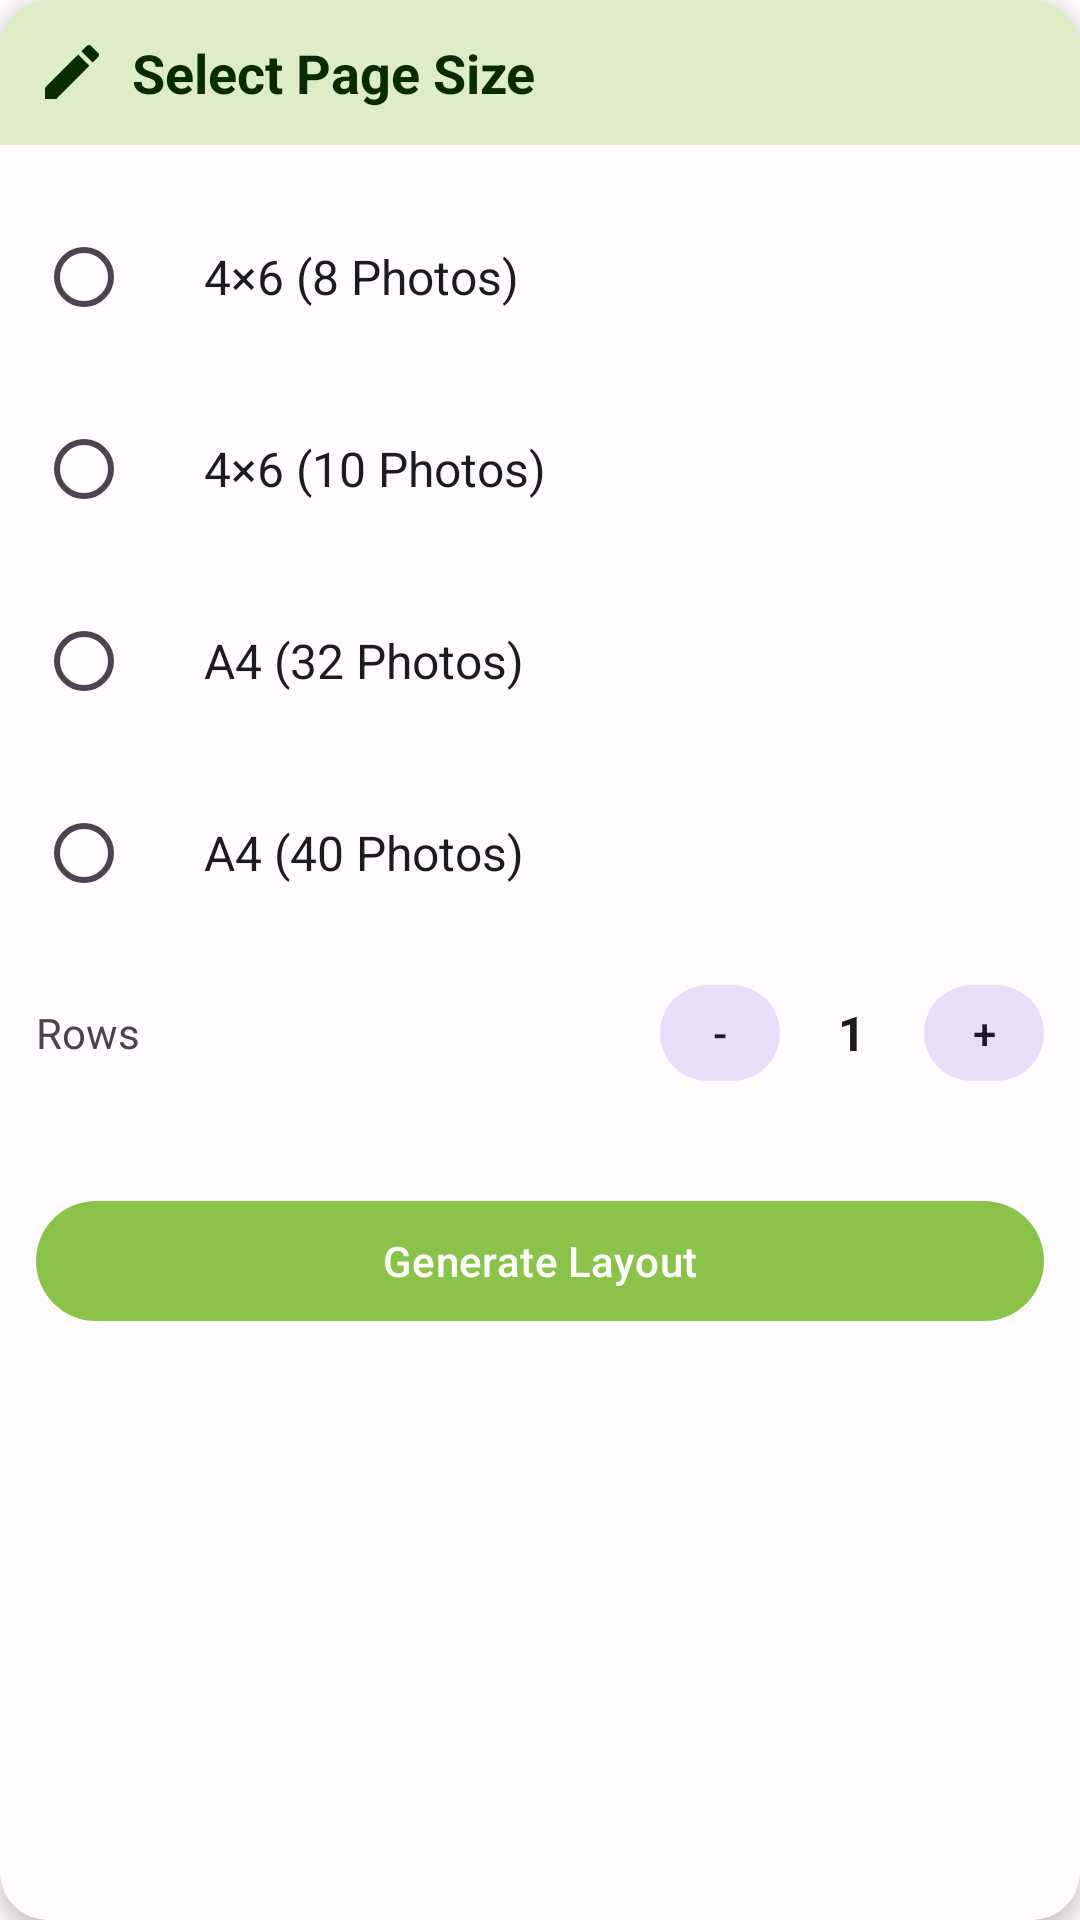

Where icons sit on this 1080px×1920px app screen, as (x1, y1, x2, y2):
edit: (45, 45, 99, 99)
